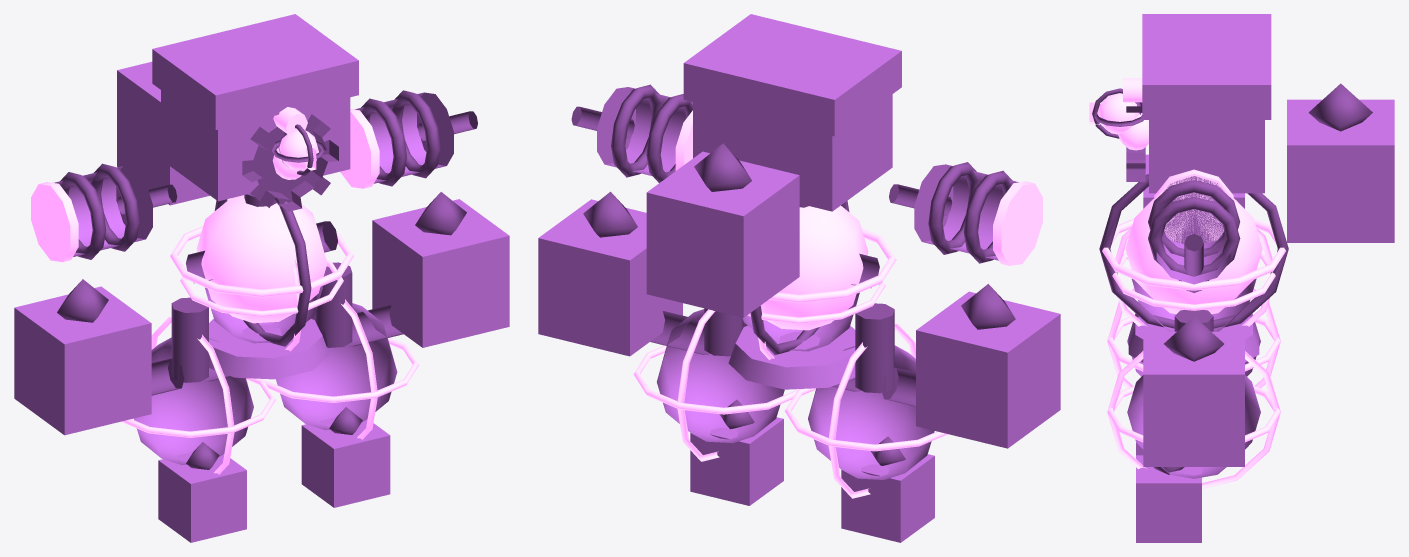
The model's file is golem_132.glb.
3 renders of one model, left to right at view 1: azimuth 30°, elevation 25°; view 2: azimuth 150°, elevation 25°; view 3: azimuth 270°, elevation 25°, orthographic. The views are drawn at different scales.
Visible parts, largest first — view 1: Body, Detail, Glow; view 2: Body, Detail, Glow; view 3: Body, Glow, Detail.
Part boxes in pixels (box(x1,y1,x2,y2)): Body: box(14, 14, 509, 542); Detail: box(57, 90, 477, 469); Glow: box(31, 107, 418, 474); Body: box(538, 14, 1060, 542); Detail: box(571, 84, 1015, 465); Glow: box(633, 110, 1042, 498); Body: box(1119, 14, 1394, 542); Glow: box(1089, 78, 1285, 488); Detail: box(1092, 83, 1372, 474).
Bounding box in the file's own units: 1.24 × 1.17 × 0.7286.
